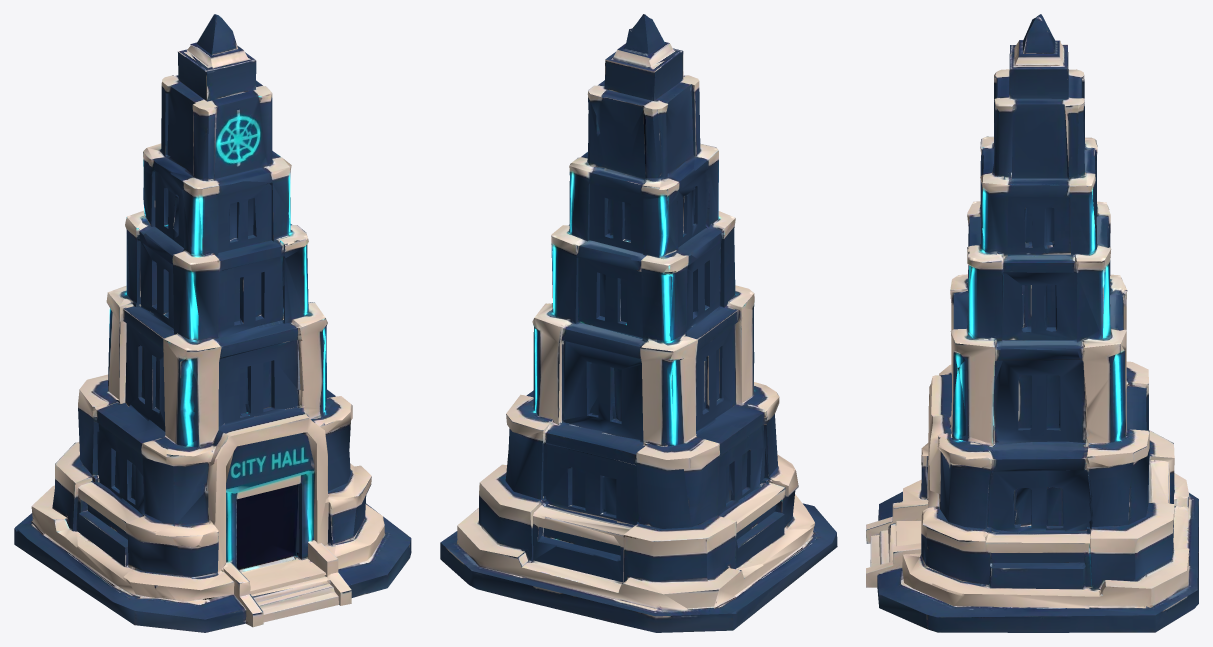
The model's file is city_hall.glb.
The picture shows the model from 3 angles, left to right: view 1: azimuth 30°, elevation 25°; view 2: azimuth 150°, elevation 25°; view 3: azimuth 270°, elevation 25°; orthographic projection.
Visible parts, largest first — view 1: body_city_hall; view 2: body_city_hall; view 3: body_city_hall.
Part boxes in pixels (x1,y1,x2,y2): body_city_hall: (14,14,411,632); body_city_hall: (440,14,837,632); body_city_hall: (866,14,1198,632).
Bounding box in the file's own units: 1022 × 1800 × 990.
Materials: 3 (1 with a texture image).
